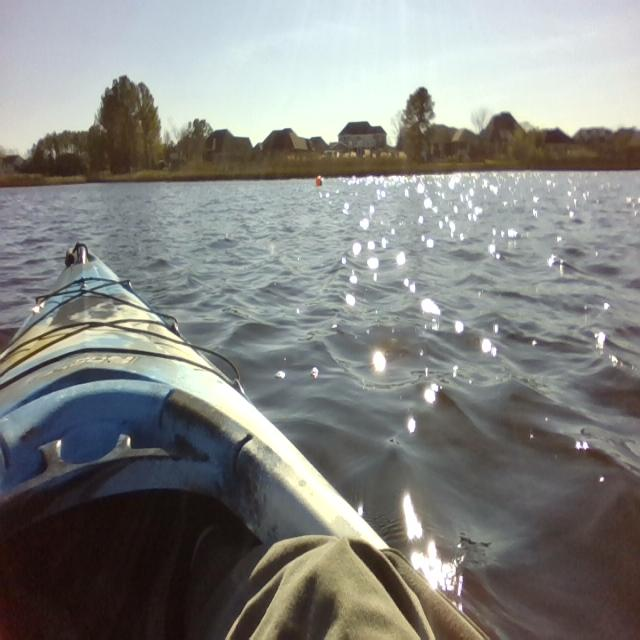Buoy: (314, 167, 326, 190)
